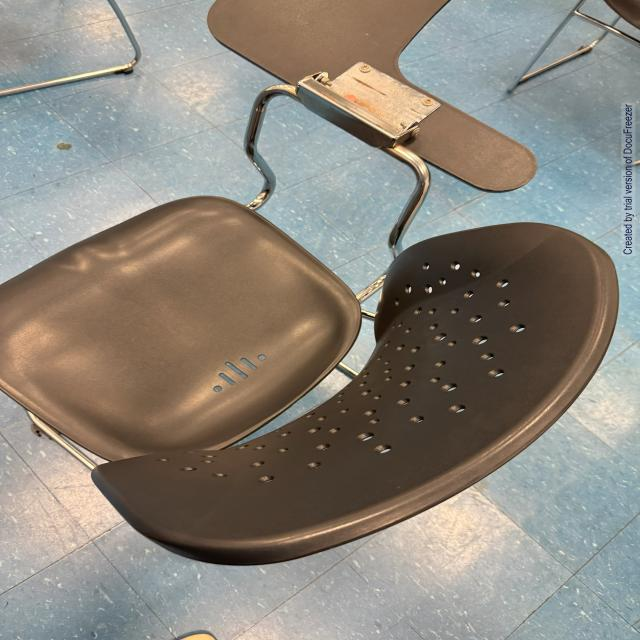chair: (5, 69, 640, 596)
